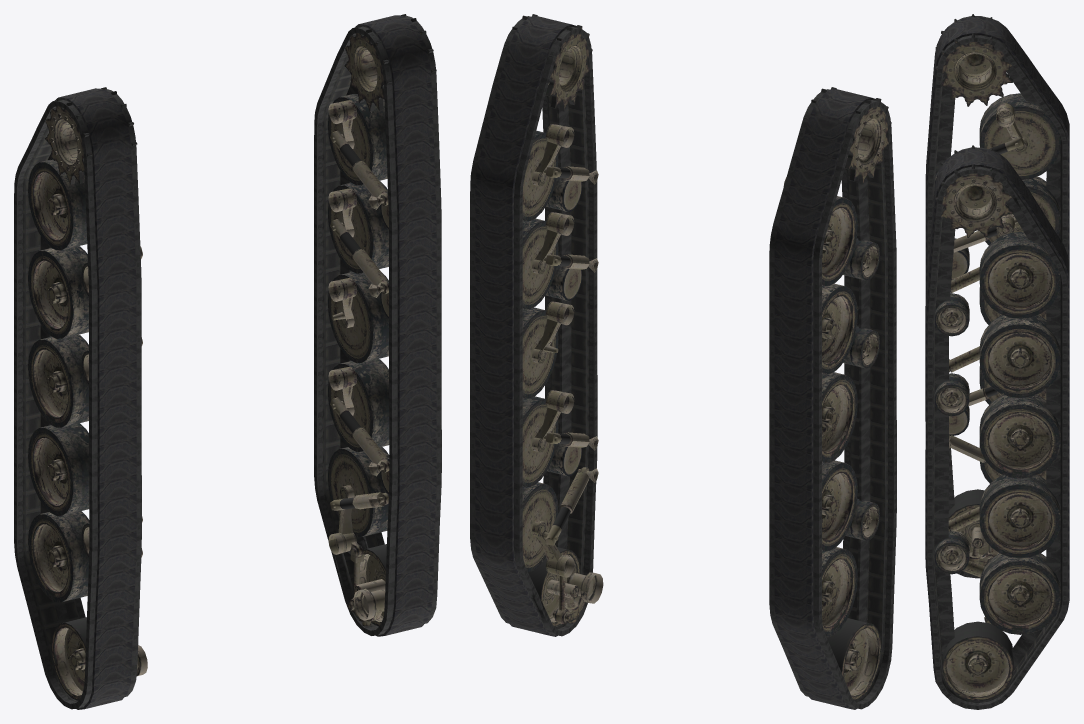
Rendered from Chassis.glb.
3 views of the same model, side by side, from view 1: azimuth 30°, elevation 25°; view 2: azimuth 150°, elevation 25°; view 3: azimuth 270°, elevation 25° (orthographic). The views are drawn at different scales.
Parts seen in each view (by area): view 1: set_0_group_0, set_1_group_0, set_3_group_0, set_2_group_0; view 2: set_0_group_0, set_1_group_0, set_3_group_0, set_2_group_0; view 3: set_3_group_0, set_1_group_0, set_2_group_0, set_0_group_0.
Part boxes in pixels (<box>): set_0_group_0: <box>14,88,141,709</box>; set_1_group_0: <box>314,15,441,636</box>; set_3_group_0: <box>328,14,436,626</box>; set_2_group_0: <box>28,87,147,700</box>; set_0_group_0: <box>769,88,896,709</box>; set_1_group_0: <box>470,15,597,636</box>; set_3_group_0: <box>504,14,603,626</box>; set_2_group_0: <box>783,87,891,700</box>; set_3_group_0: <box>934,145,1060,701</box>; set_1_group_0: <box>925,147,1069,709</box>; set_2_group_0: <box>935,14,1060,566</box>; set_0_group_0: <box>925,16,1069,578</box>.
Bounding box in the file's own units: 2.89 × 4.76 × 1.14.
Materials: 4 (4 with a texture image).
